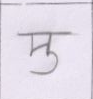u_matra: (31, 52, 61, 76)
